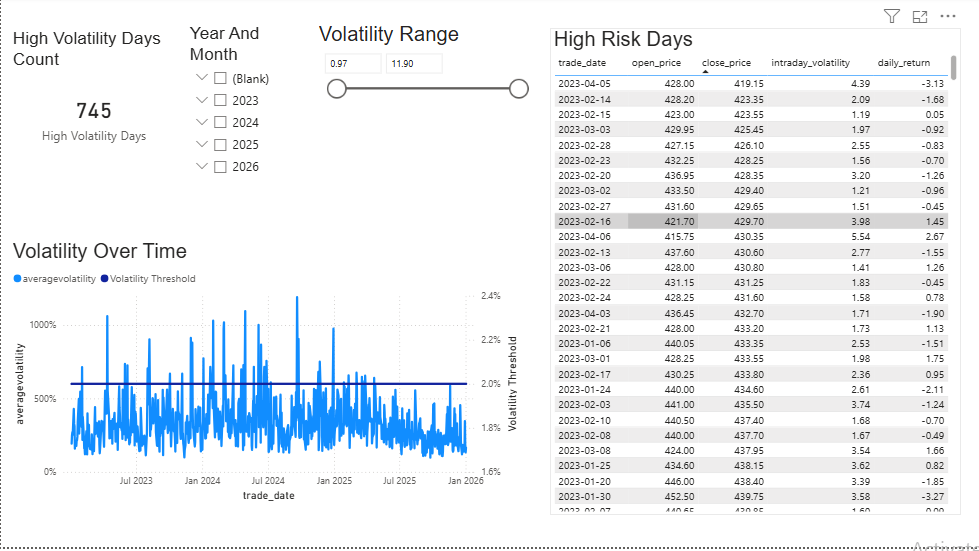

This screenshot's page, from the dashboard's own definition file:
{"tool":"powerbi","page":{"name":"risk and volatility analysis","canvas":[1280,720],"ordinal":2},"visuals":[{"type":"card","title":"High Volatility Days Count","fields":{"Values":["public vw_maxhealthcare_analysis.High Volatility Days"]},"box":[10.5,40.6,222.5,179.3],"z":0},{"type":"lineChart","title":"Volatility Over Time","fields":{"Y":["public vw_maxhealthcare_analysis.averagevolatility"],"Y2":["public vw_maxhealthcare_analysis.Volatility Threshold"],"Category":["public vw_maxhealthcare_analysis.trade_date"]},"box":[10.5,318.1,670.3,346.9],"z":1000},{"type":"tableEx","title":"High Risk Days","fields":{"Values":["public vw_maxhealthcare_analysis.trade_date","public vw_maxhealthcare_analysis.open_price","public vw_maxhealthcare_analysis.close_price","public vw_maxhealthcare_analysis.intraday_volatility","public vw_maxhealthcare_analysis.daily_return"]},"box":[718.7,40.6,538,637.5],"z":1001},{"type":"slicer","title":"Year And Month","fields":{"Values":["public vw_maxhealthcare_analysis.trade_date.Variation.Date Hierarchy.Year","public vw_maxhealthcare_analysis.trade_date.Variation.Date Hierarchy.Month"]},"box":[242.2,34,159.7,255.3],"z":1002},{"type":"slicer","title":"Volatility Range","fields":{"Values":["public vw_maxhealthcare_analysis.intraday_volatility"]},"box":[411.1,34,288,149.2],"z":1003}]}

Visuals, with their boxes in screenshot pixels (x1, y1, x2, y2), scaled from the page's 1280x720 canvas onto the 979x551 screenshot:
"High Volatility Days Count" card: <region>8, 31, 178, 168</region>
"Volatility Over Time" lineChart: <region>8, 243, 521, 509</region>
"High Risk Days" tableEx: <region>550, 31, 961, 519</region>
"Year And Month" slicer: <region>185, 26, 307, 221</region>
"Volatility Range" slicer: <region>314, 26, 535, 140</region>
